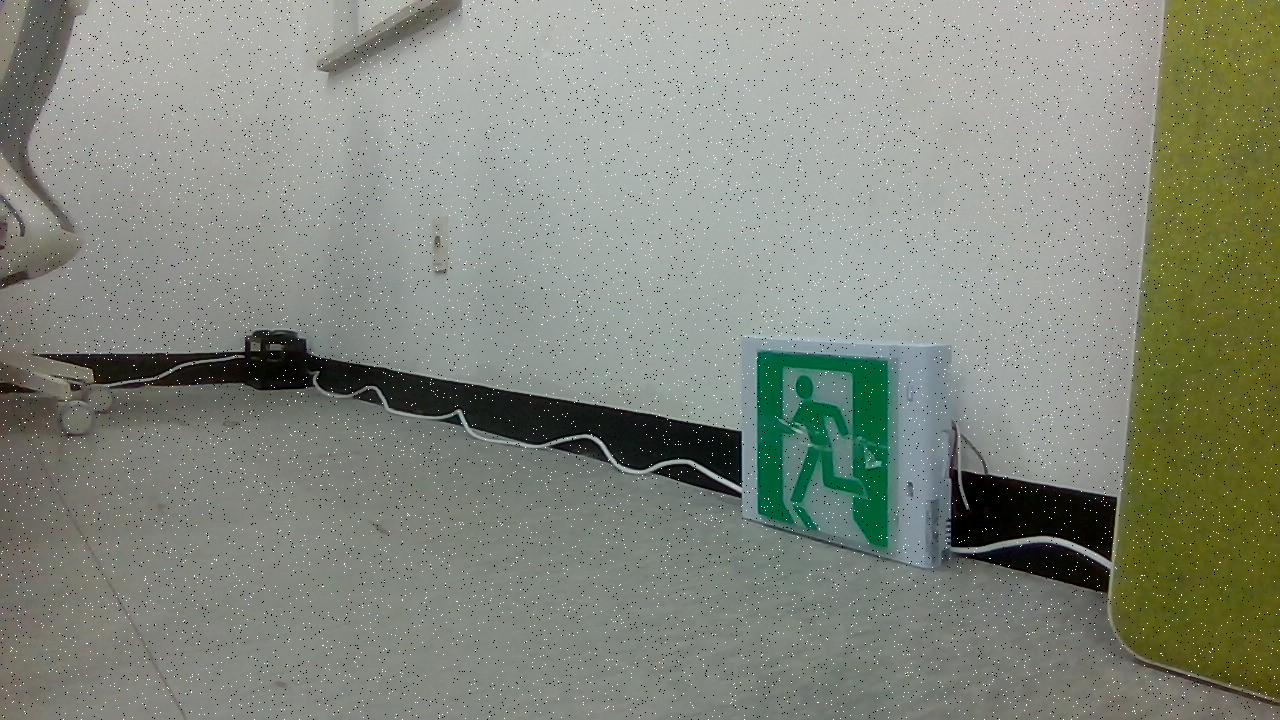emergency_exit: (739, 335, 953, 570)
